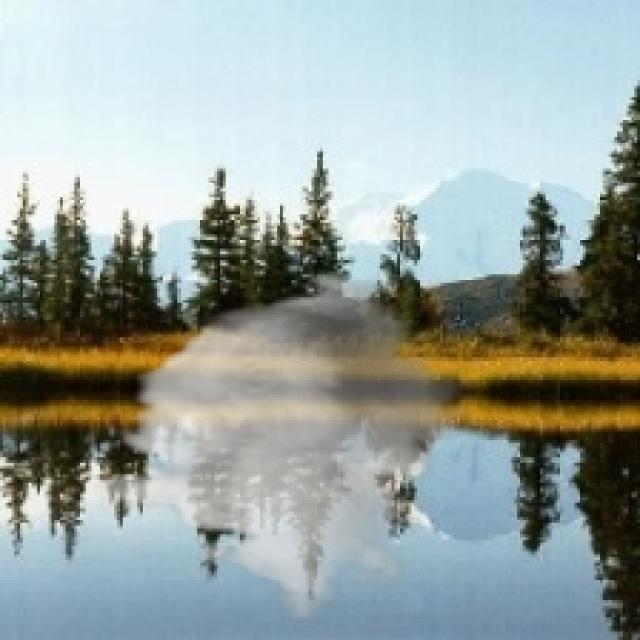smoke: (92, 268, 474, 623)
